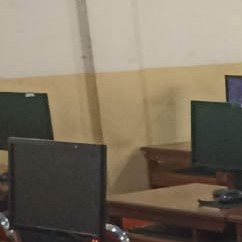monitor: (7, 137, 107, 238), (190, 100, 242, 173), (0, 92, 54, 150), (224, 75, 242, 107)
